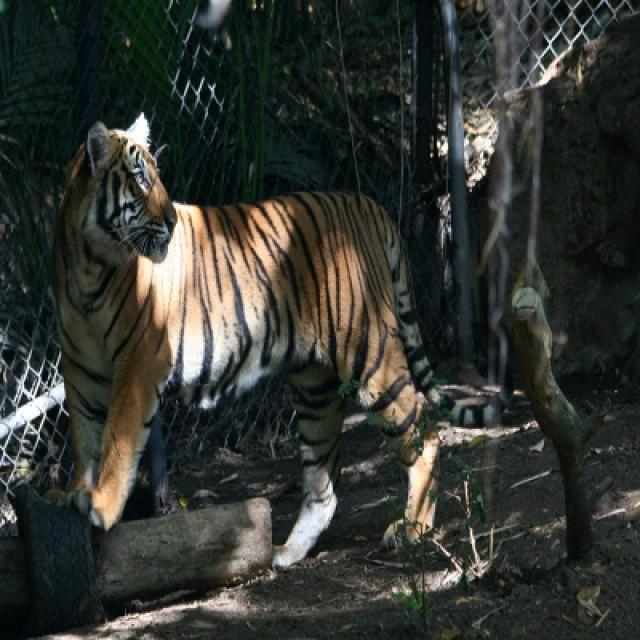Tiger: (57, 102, 520, 559)
